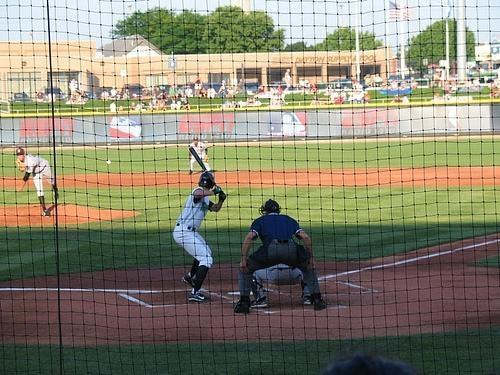car: (8, 93, 32, 102)
